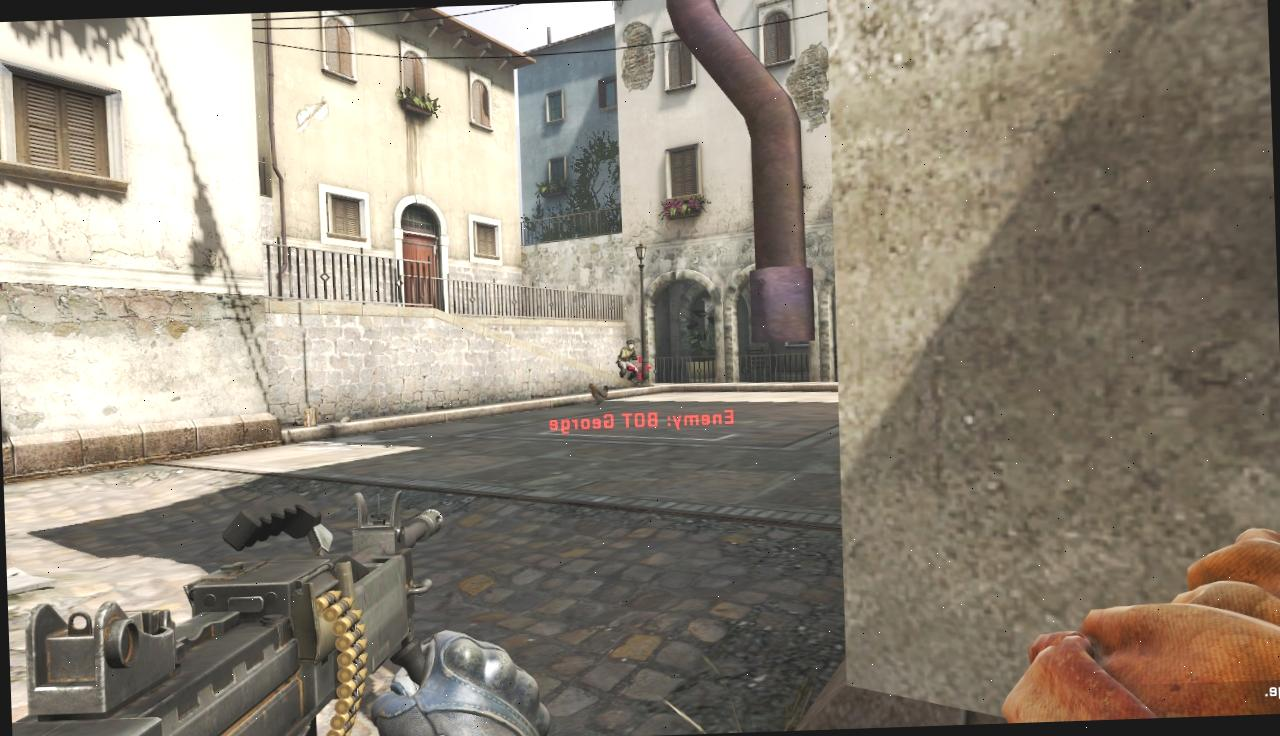rifle: (4, 479, 458, 736)
tt: (618, 340, 638, 377)
tthead: (626, 340, 634, 350)
